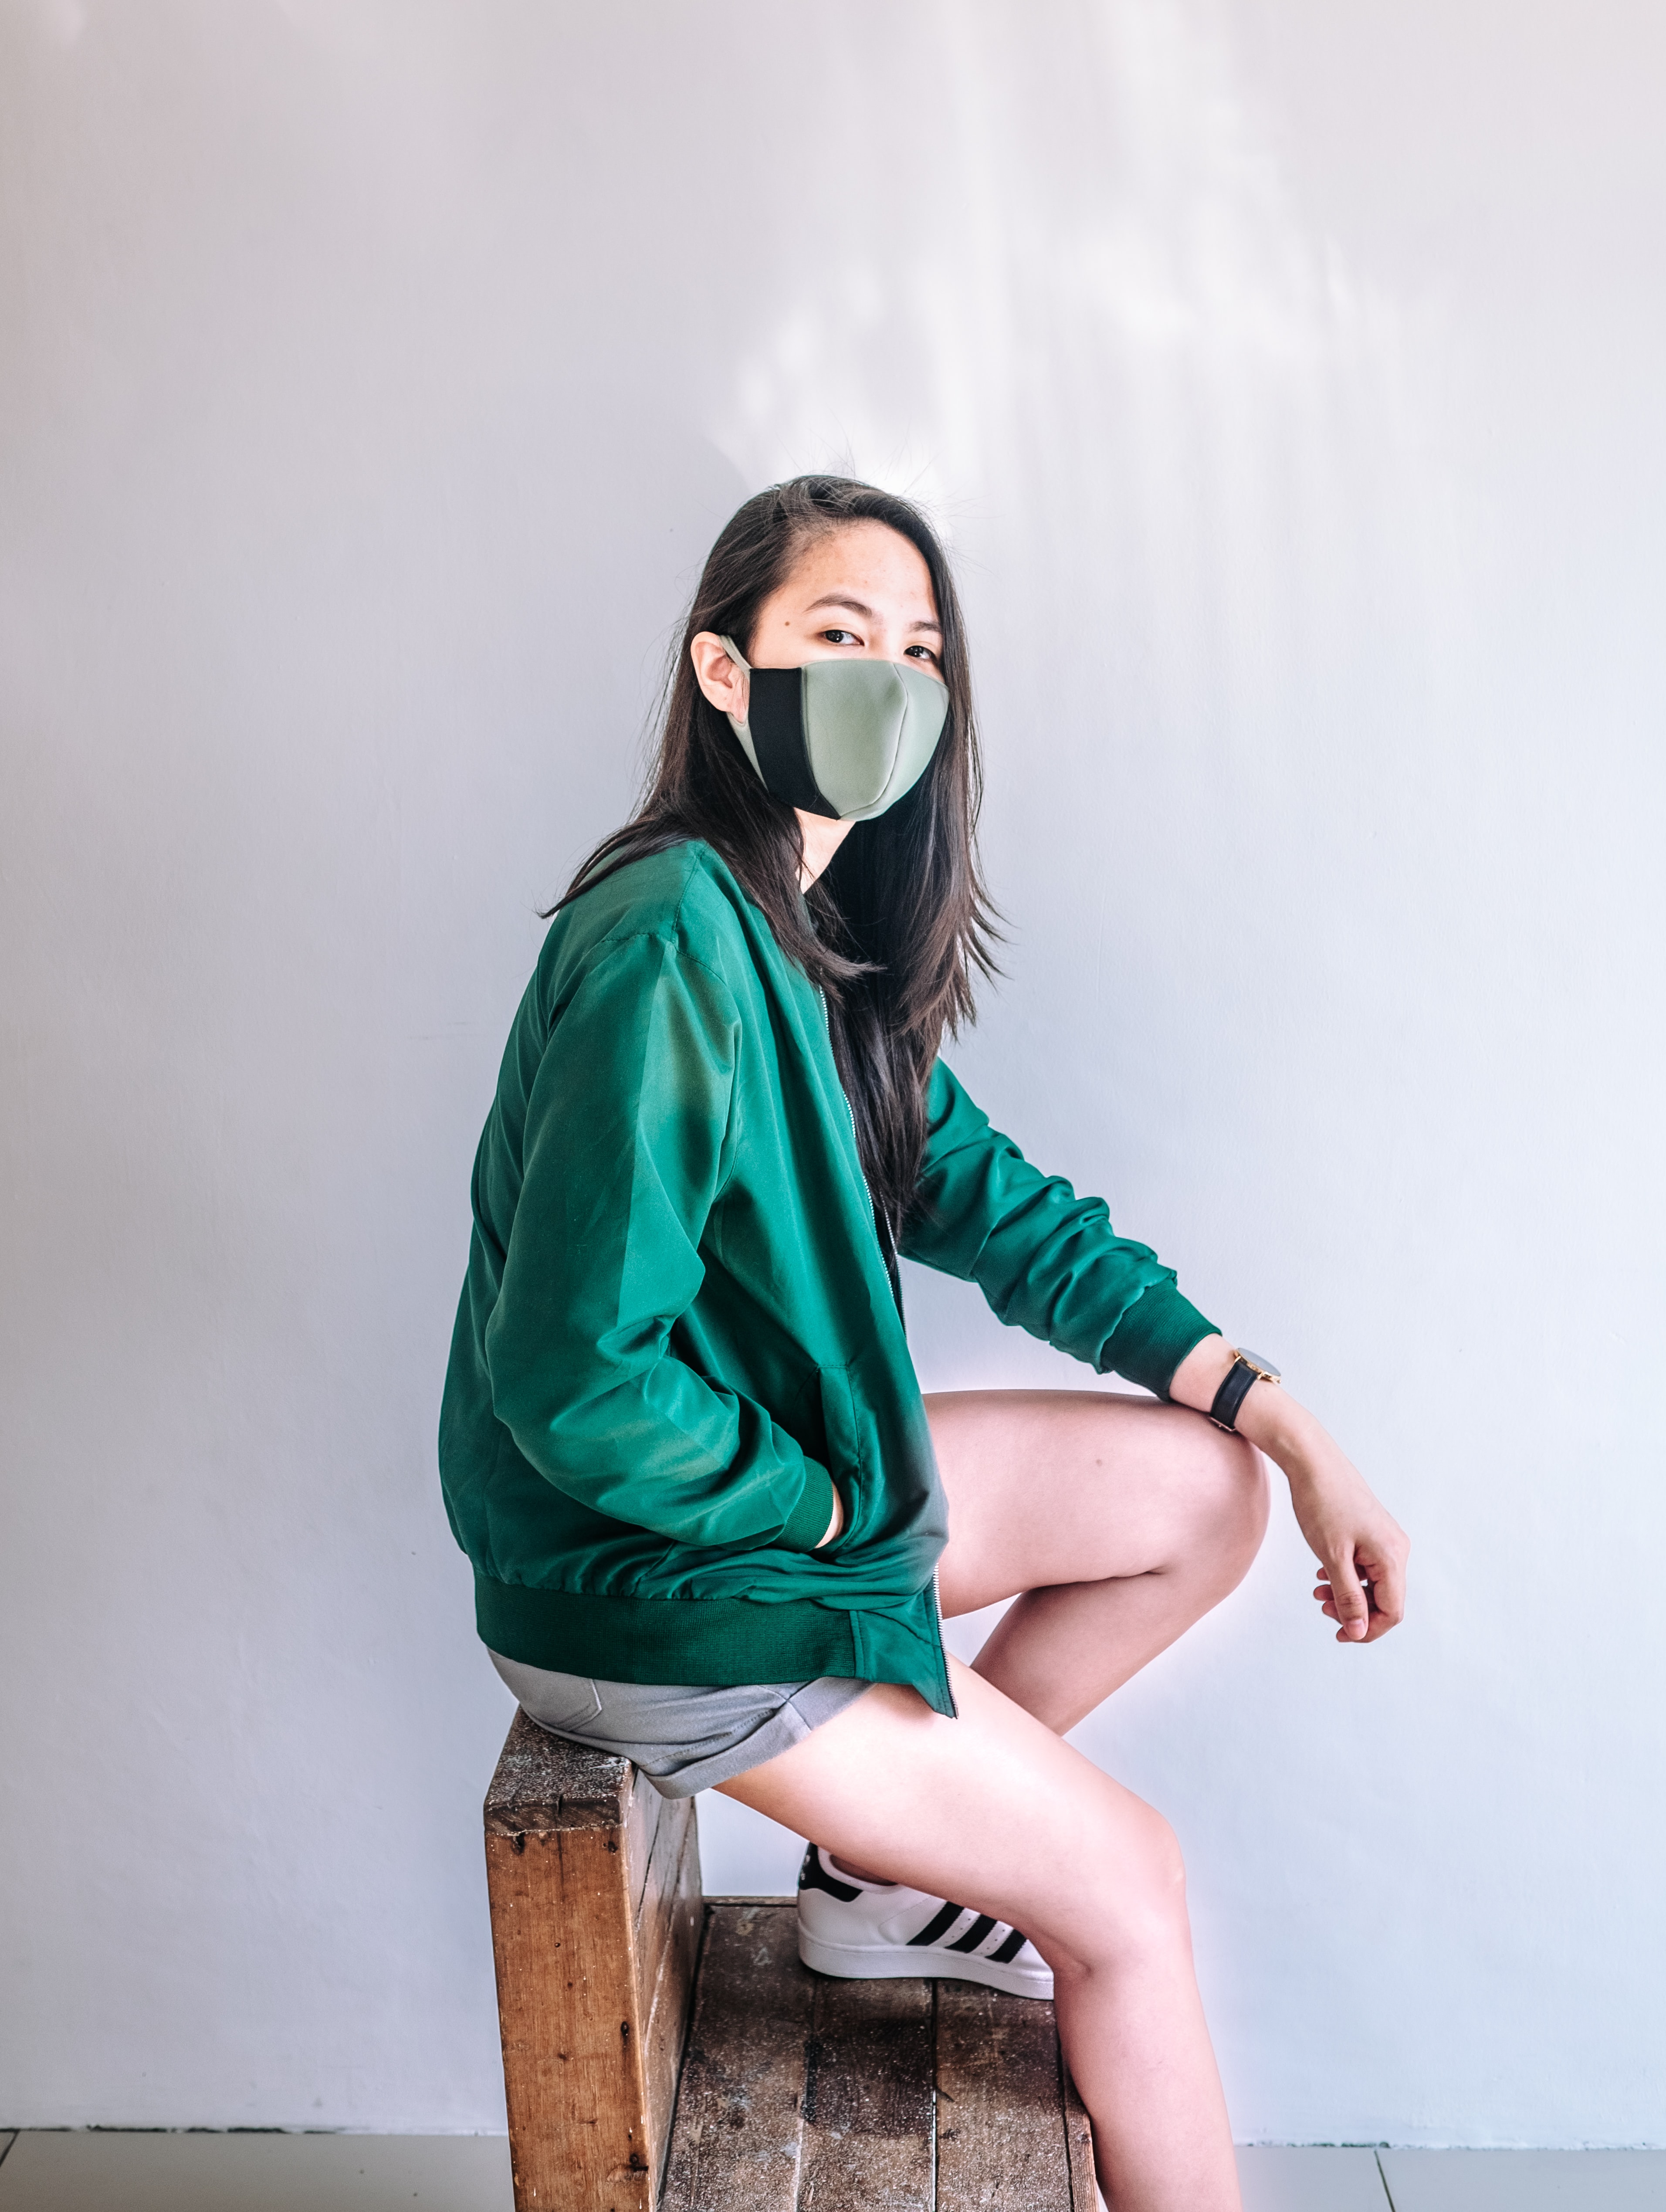mask: (728, 661, 986, 869)
person: (392, 403, 1422, 2212)
